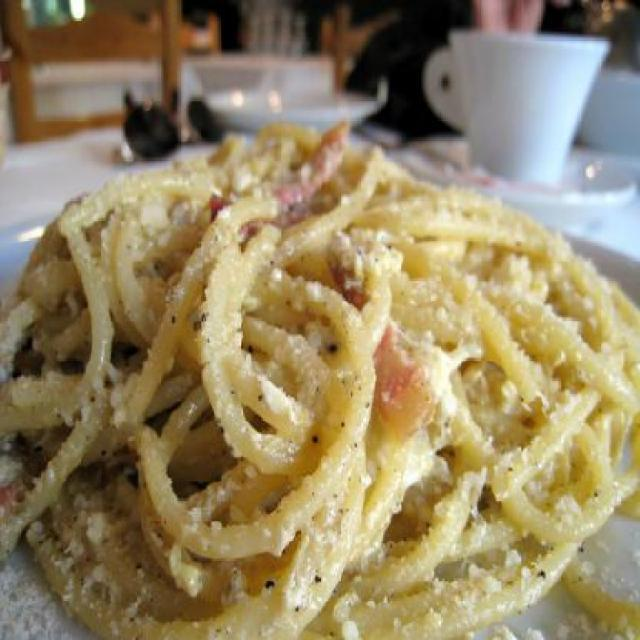Pasta with carbonara sauce: (16, 84, 639, 638)
